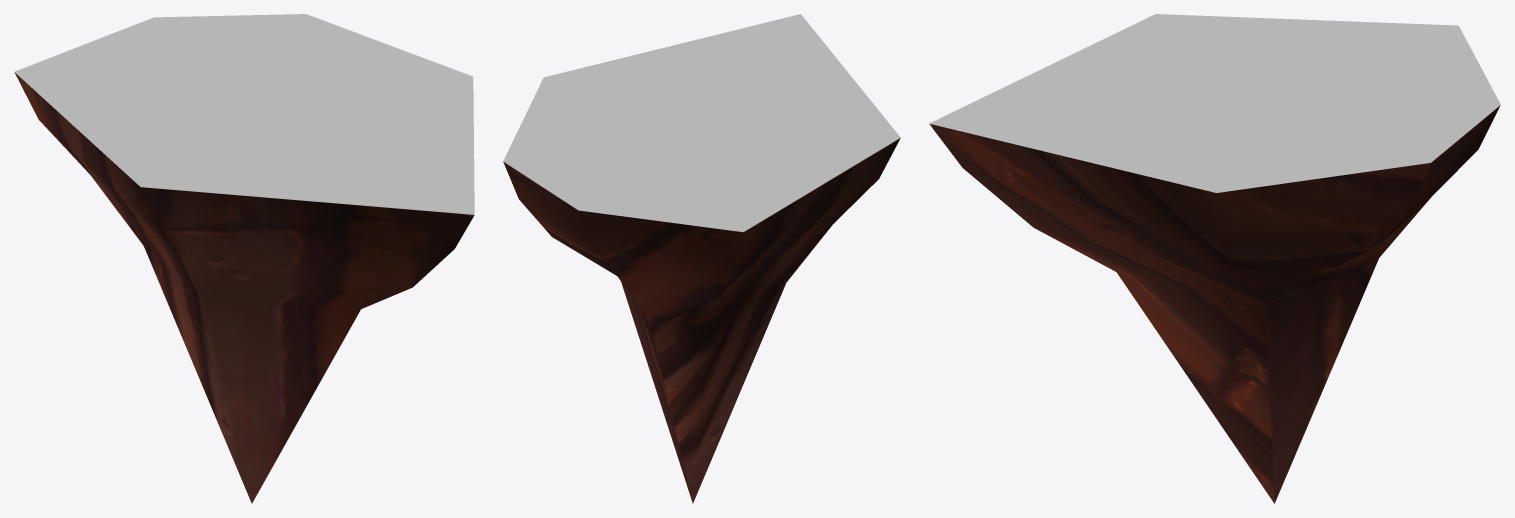
Rendered from fukongshi_huo_02.FBX.
The picture shows the model from 3 angles, left to right: view 1: azimuth 30°, elevation 25°; view 2: azimuth 150°, elevation 25°; view 3: azimuth 270°, elevation 25°; orthographic projection. The views are drawn at different scales.
Visible parts, largest first — view 1: fukongshi_huo_02; view 2: fukongshi_huo_02; view 3: fukongshi_huo_02.
Part boxes in pixels (x1=…): fukongshi_huo_02: x1=14, y1=14, x2=474, y2=503; fukongshi_huo_02: x1=503, y1=14, x2=900, y2=503; fukongshi_huo_02: x1=929, y1=14, x2=1500, y2=503.
Size of the model in its own units: 297 by 401 by 314.
